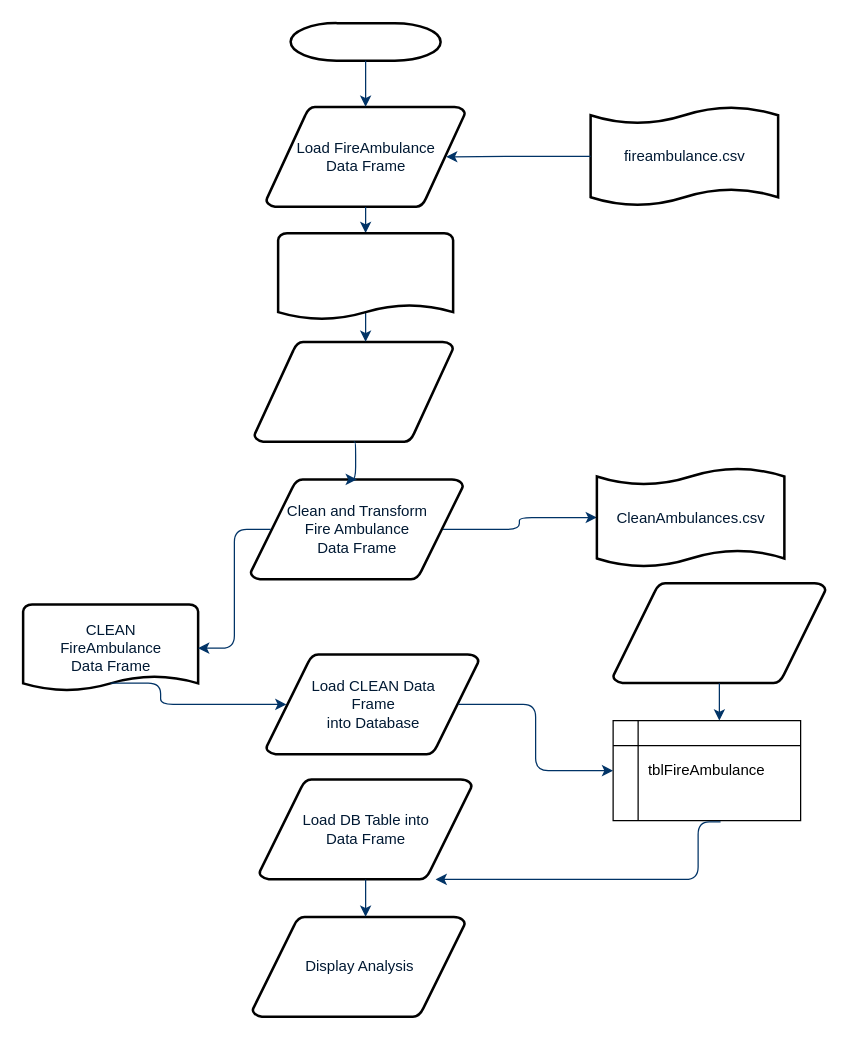
Some shapes in this 848 by 1039 pixel diagram are drawn without their labels. The shapes that lost their labels are listed below. From the top down, each one's centre as x and y in pixels, then its label:
(365,41): start
(365,276): FireAmbulance Data Frame
(353,391): Display Data Frame Outputs
(718,632): Create Database Table
